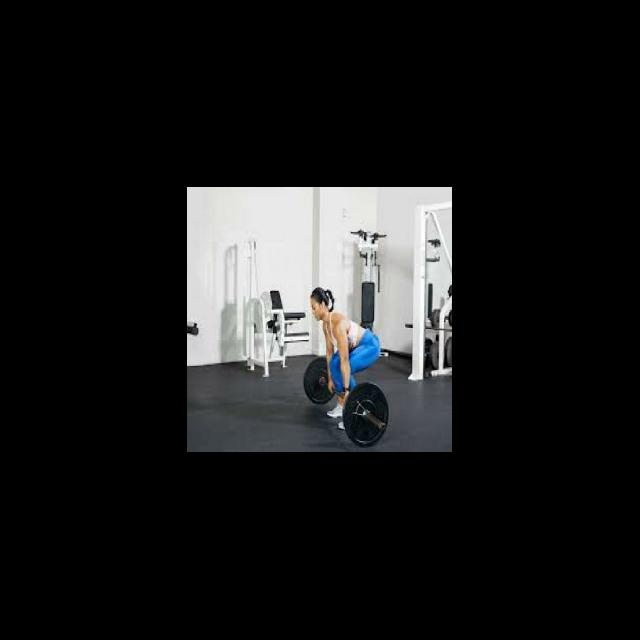barbell: (340, 379, 391, 448)
